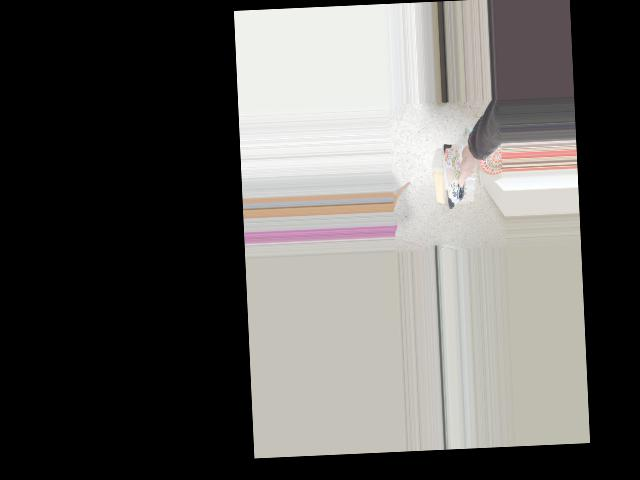cheese: (414, 135, 481, 212)
